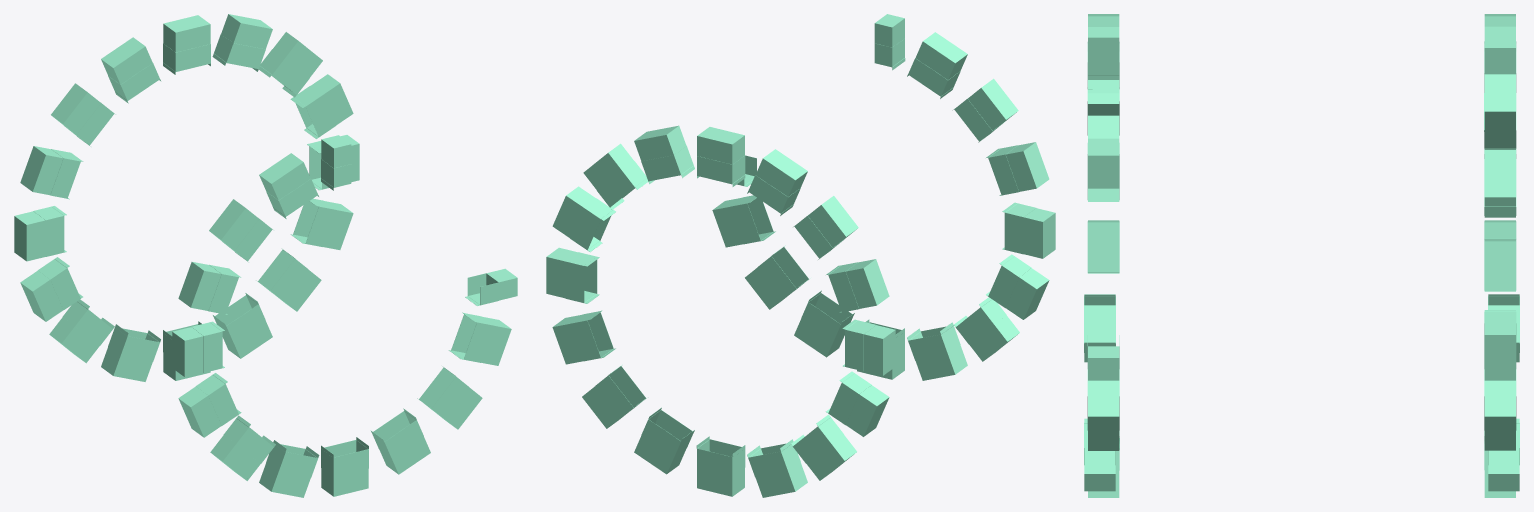
File: Serv-Muon-Barrel-Calo-Ele-Boxes-cut4.glb
3 renders of one model, left to right at view 1: azimuth 30°, elevation 25°; view 2: azimuth 150°, elevation 25°; view 3: azimuth 270°, elevation 25°, orthographic. The views are drawn at different scales.
Parts seen in each view (by area): view 1: Electrical Boxes Barrel cut4; view 2: Electrical Boxes Barrel cut4; view 3: Electrical Boxes Barrel cut4.
Part boxes in pixels (x1,y1,x2,y2): Electrical Boxes Barrel cut4: (14,14,517,497); Electrical Boxes Barrel cut4: (546,14,1055,497); Electrical Boxes Barrel cut4: (1084,14,1519,497).
Bounding box in the file's own units: 7.57 × 7.58 × 6.85.
